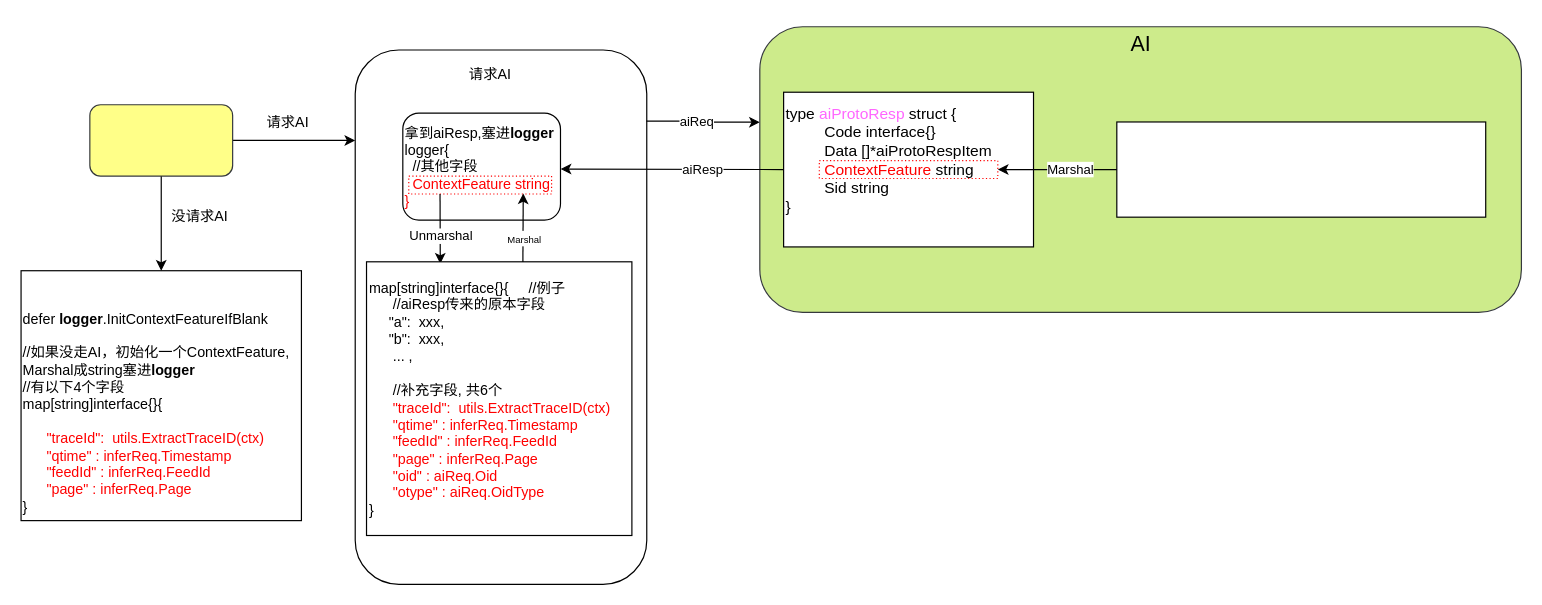
Some shapes in this 1542 by 605 pixel diagram are drawn without their labels. Here are the shapes that lost their labels. From the top down, the centre of each, then its label:
(x=161, y=140): feed-service
(x=1301, y=169): contextFeature := map[string]interface{}{ //例子 "a": xxx, "b": xxx, ... , }
